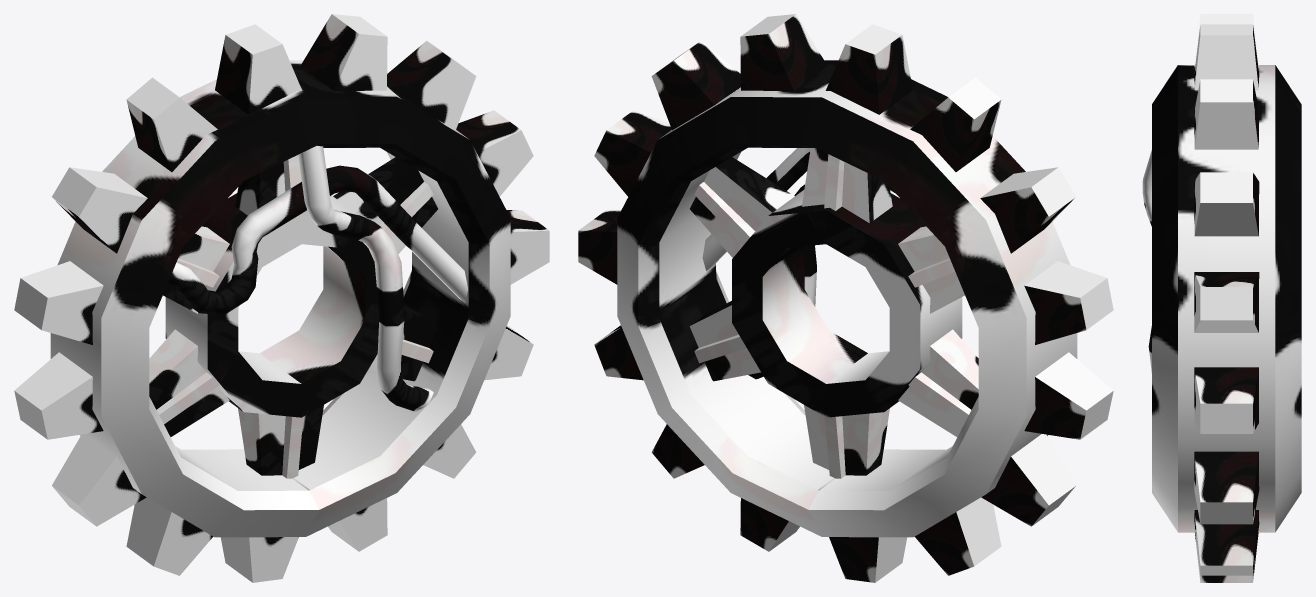
File: Gear.fbx
3 renders of one model, left to right at view 1: azimuth 30°, elevation 25°; view 2: azimuth 150°, elevation 25°; view 3: azimuth 270°, elevation 25°, orthographic. The views are drawn at different scales.
Visible parts, largest first — view 1: Base, Teeth, Pipes; view 2: Base, Teeth, Pipes; view 3: Base, Teeth, Pipes.
Part boxes in pixels (box(x1,y1,x2,y2)): Base: box(50, 60, 510, 537); Teeth: box(14, 14, 549, 582); Pipes: box(167, 146, 468, 411); Base: box(617, 60, 1077, 537); Teeth: box(578, 14, 1113, 582); Pipes: box(702, 148, 894, 379); Base: box(1152, 65, 1301, 532); Teeth: box(1194, 14, 1259, 582); Pipes: box(1142, 150, 1151, 372).
Bounding box in the file's own units: 403 × 405 × 113.
